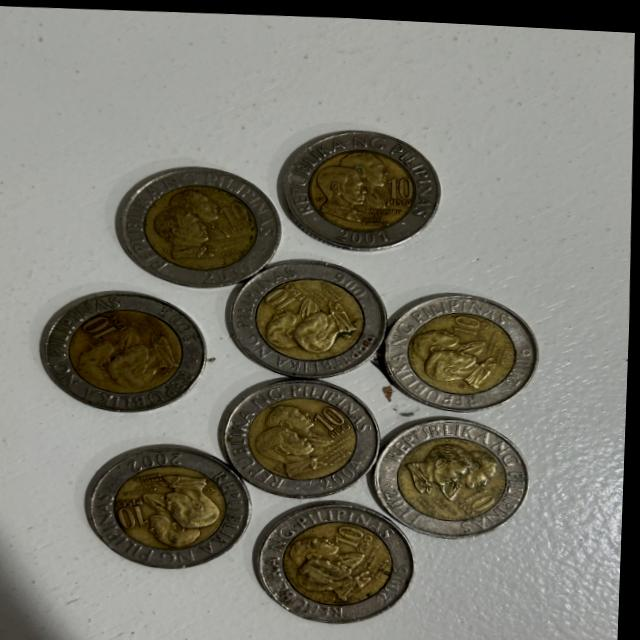10_Old_Front: (450, 474, 502, 514), (311, 399, 361, 438), (446, 303, 494, 340), (263, 276, 308, 312), (117, 489, 155, 529), (78, 311, 130, 340), (219, 193, 257, 232), (382, 170, 418, 204), (332, 518, 369, 544)
